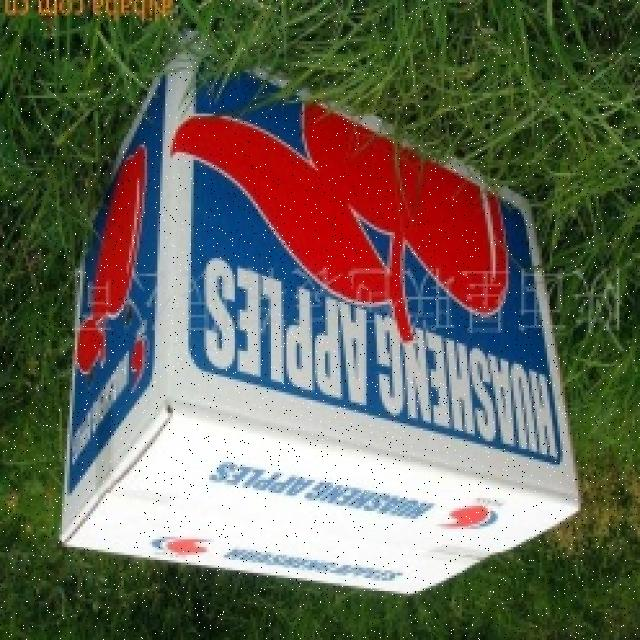box: (51, 57, 591, 594)
